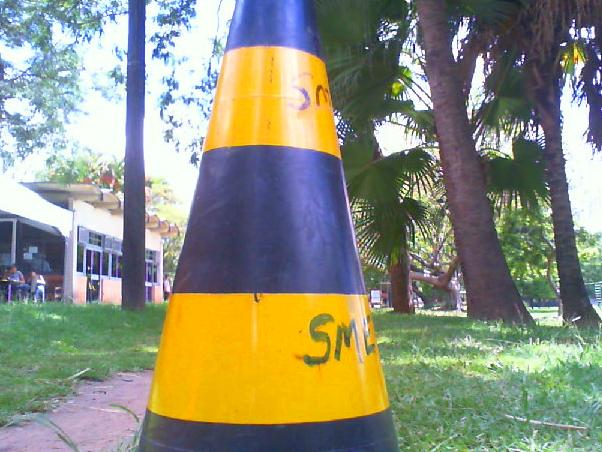0 cone: (130, 0, 402, 452)
